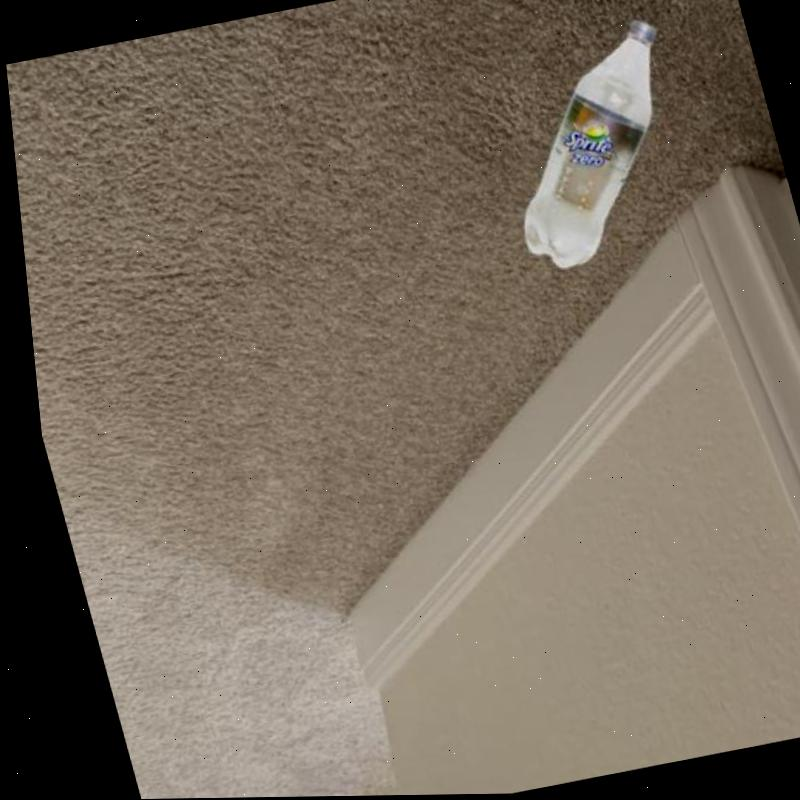botella: (465, 15, 717, 277)
